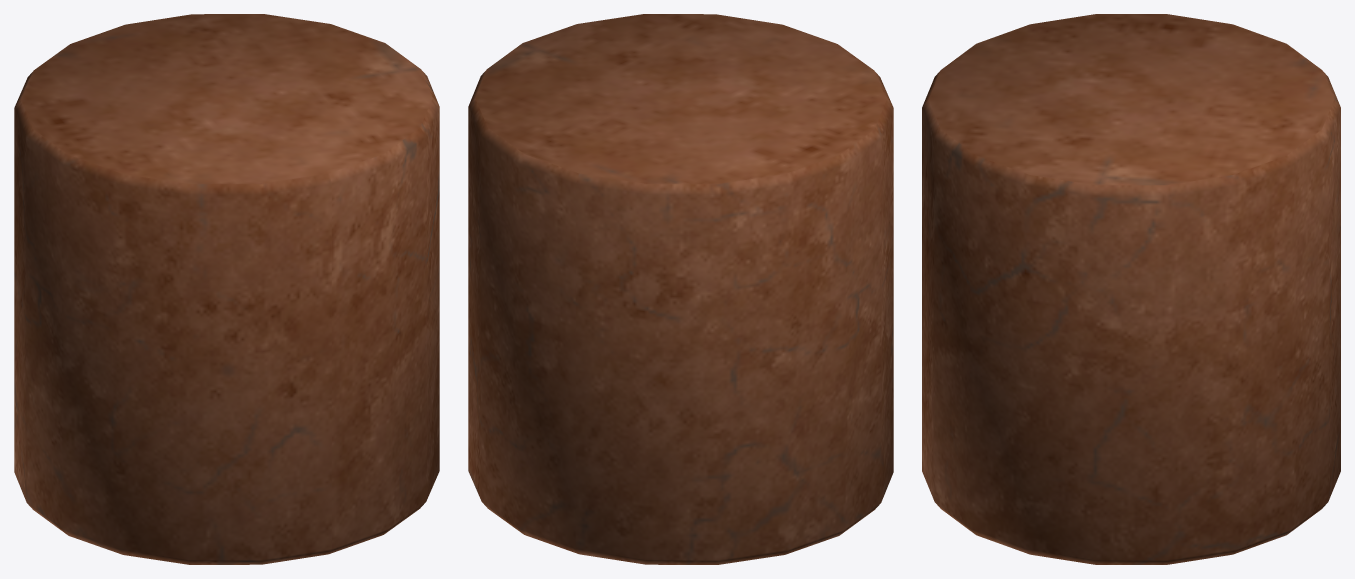
Rendered from kolonnaOne.glb.
The picture shows the model from 3 angles, left to right: view 1: azimuth 30°, elevation 25°; view 2: azimuth 150°, elevation 25°; view 3: azimuth 270°, elevation 25°; orthographic projection.
Parts seen in each view (by area): view 1: 4ast_kolonna_01; view 2: 4ast_kolonna_01; view 3: 4ast_kolonna_01.
Part boxes in pixels (x1,y1,x2,y2): 4ast_kolonna_01: (14, 14, 439, 564); 4ast_kolonna_01: (468, 14, 893, 564); 4ast_kolonna_01: (922, 14, 1340, 564).
Size of the model in its own units: 0.5 by 0.5 by 0.5.
1 material, 1 textured.
